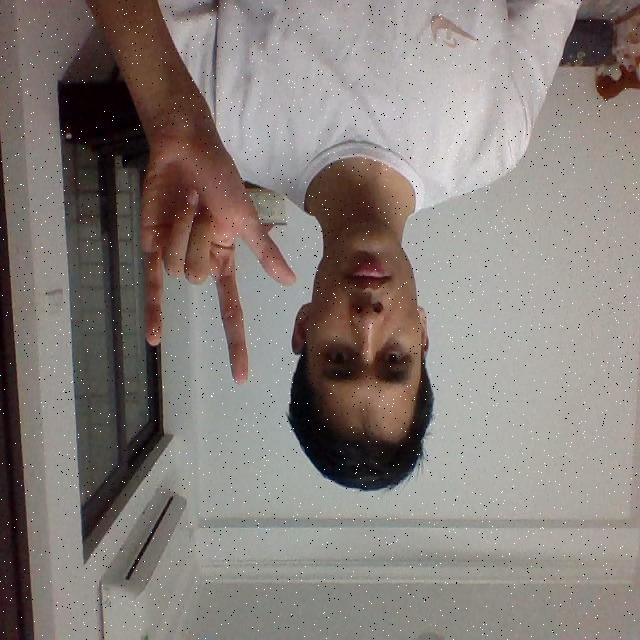love: (137, 119, 300, 394)
